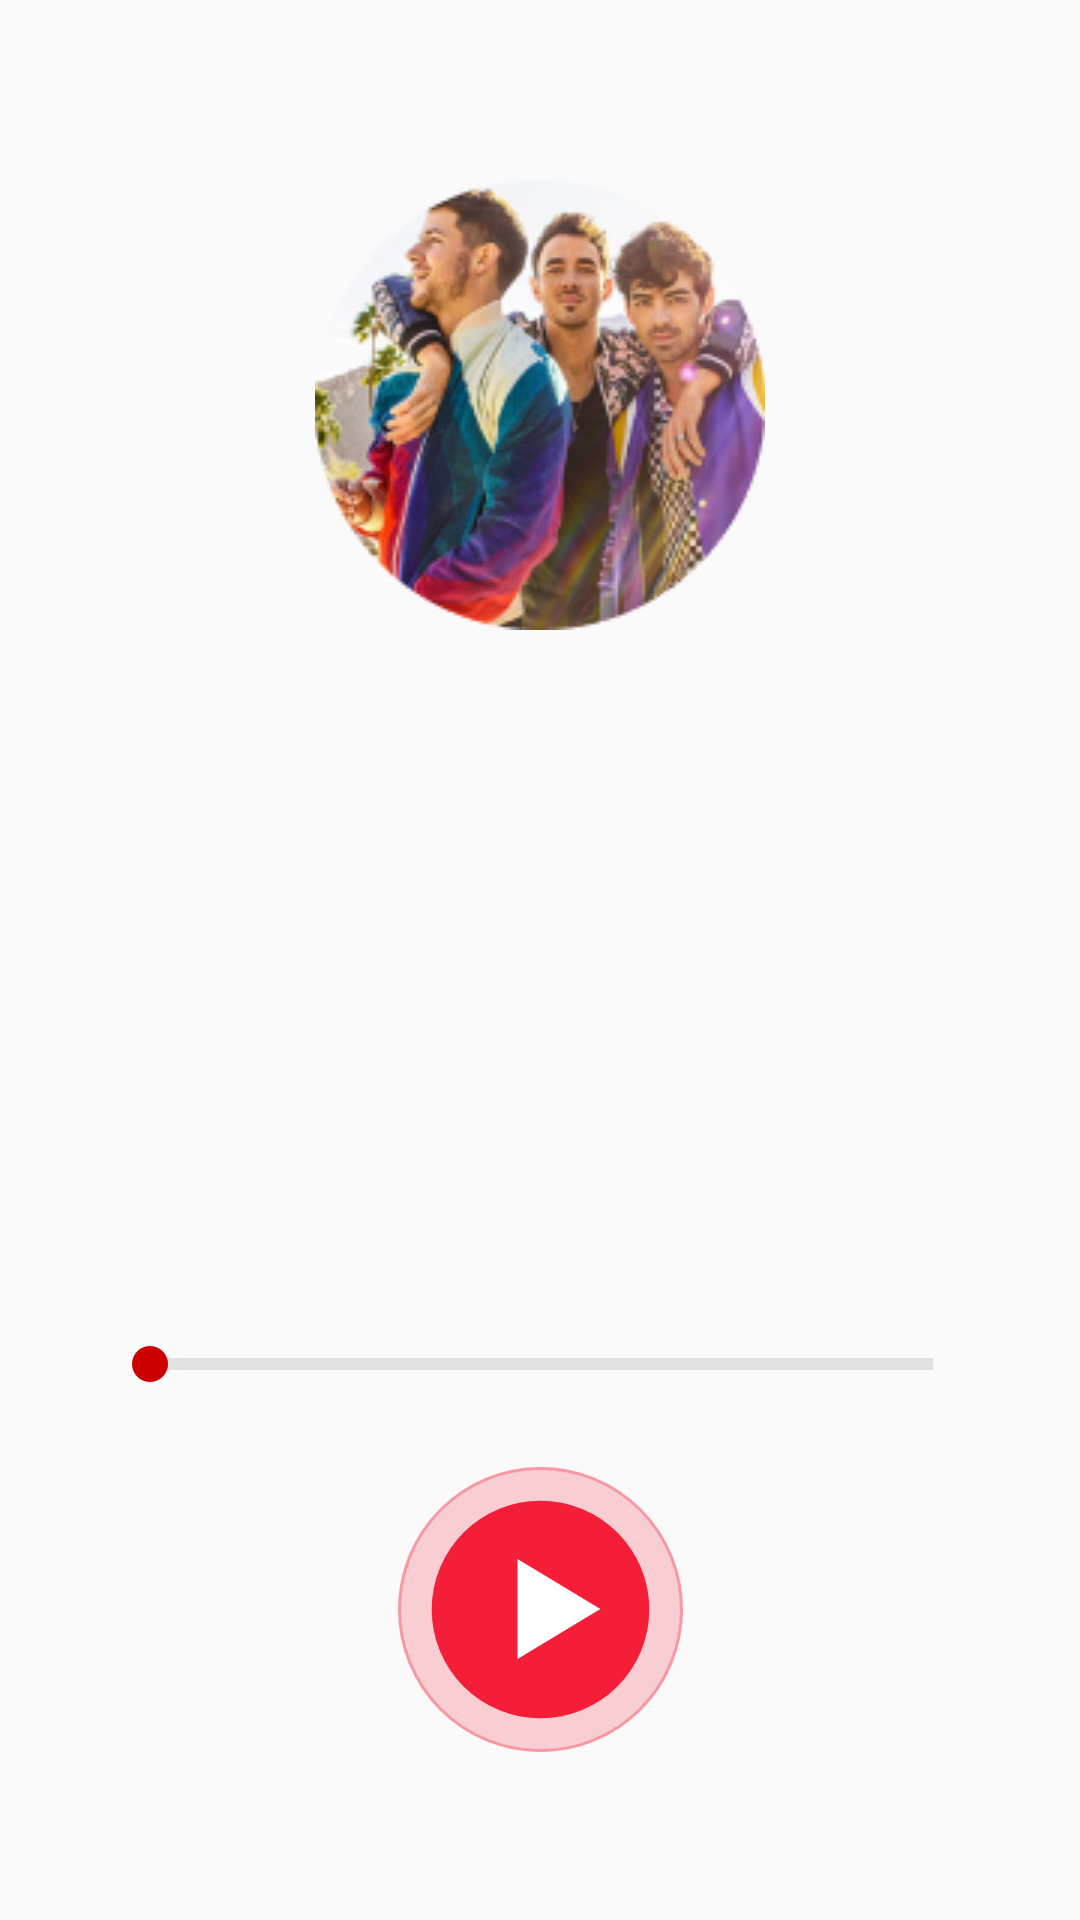

Named icons in this screenshot (1080*1920) and their centers, (x,y):
player play: (540,1609)
